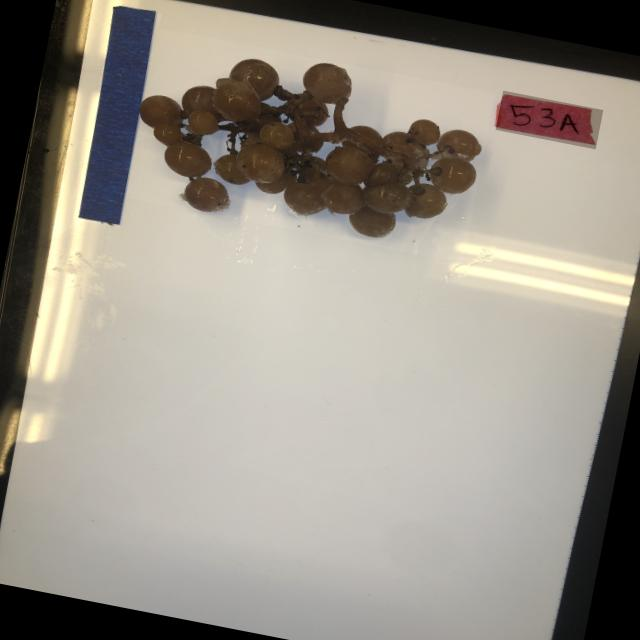grape_cluster: (122, 27, 496, 263)
index: (496, 90, 604, 150)
measure_label: (72, 4, 162, 228)
